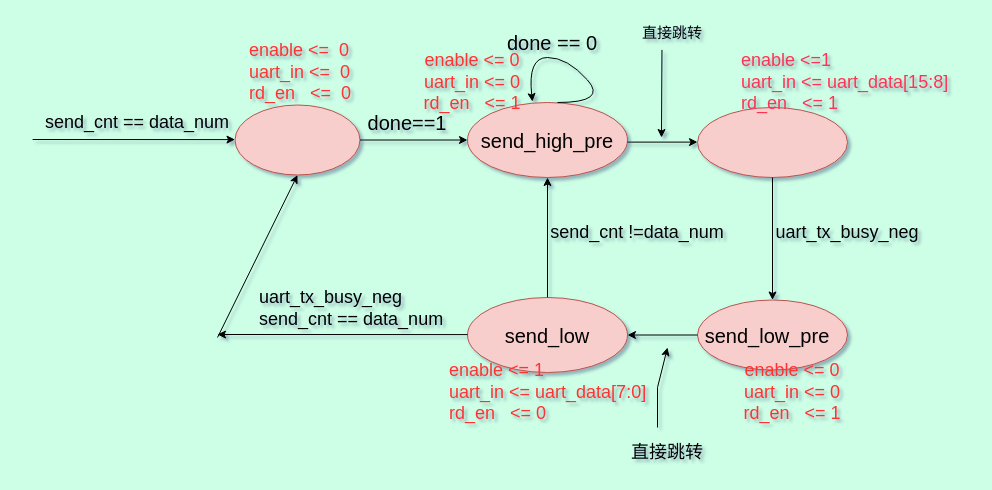
Image size: 992x490. Some labels were removed from this diagram. The shapes that lost their labels are listed below. From the top down, each one's centre as x and y in pixels, then its label:
At (297,139): "idle".
At (772,142): "send_high".
